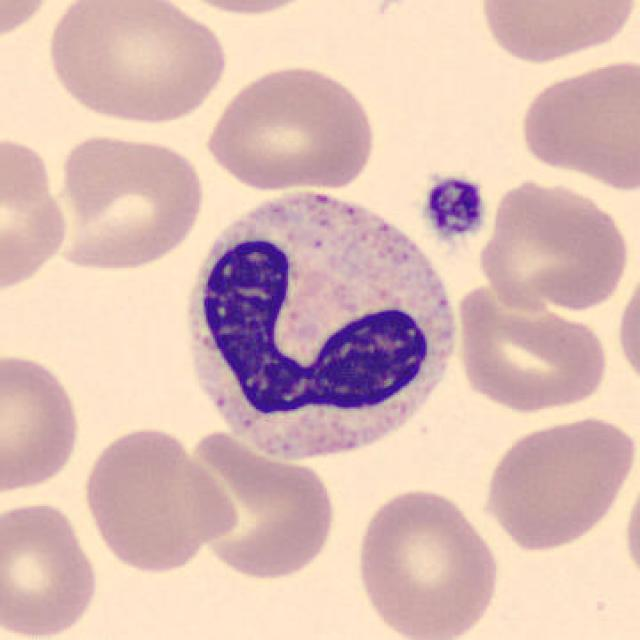Neutrophil: (171, 180, 464, 478)
Platelets: (420, 173, 490, 243)
RBC: (177, 423, 336, 580), (78, 423, 240, 575), (41, 0, 231, 129), (350, 483, 505, 638), (201, 60, 380, 194), (50, 129, 208, 275), (478, 411, 636, 554), (475, 176, 633, 316), (452, 282, 612, 416), (516, 54, 638, 190), (0, 497, 103, 640), (0, 349, 85, 497), (0, 130, 71, 298), (473, 0, 638, 65), (611, 259, 640, 393), (162, 0, 330, 18), (620, 453, 640, 594), (0, 0, 62, 44)
